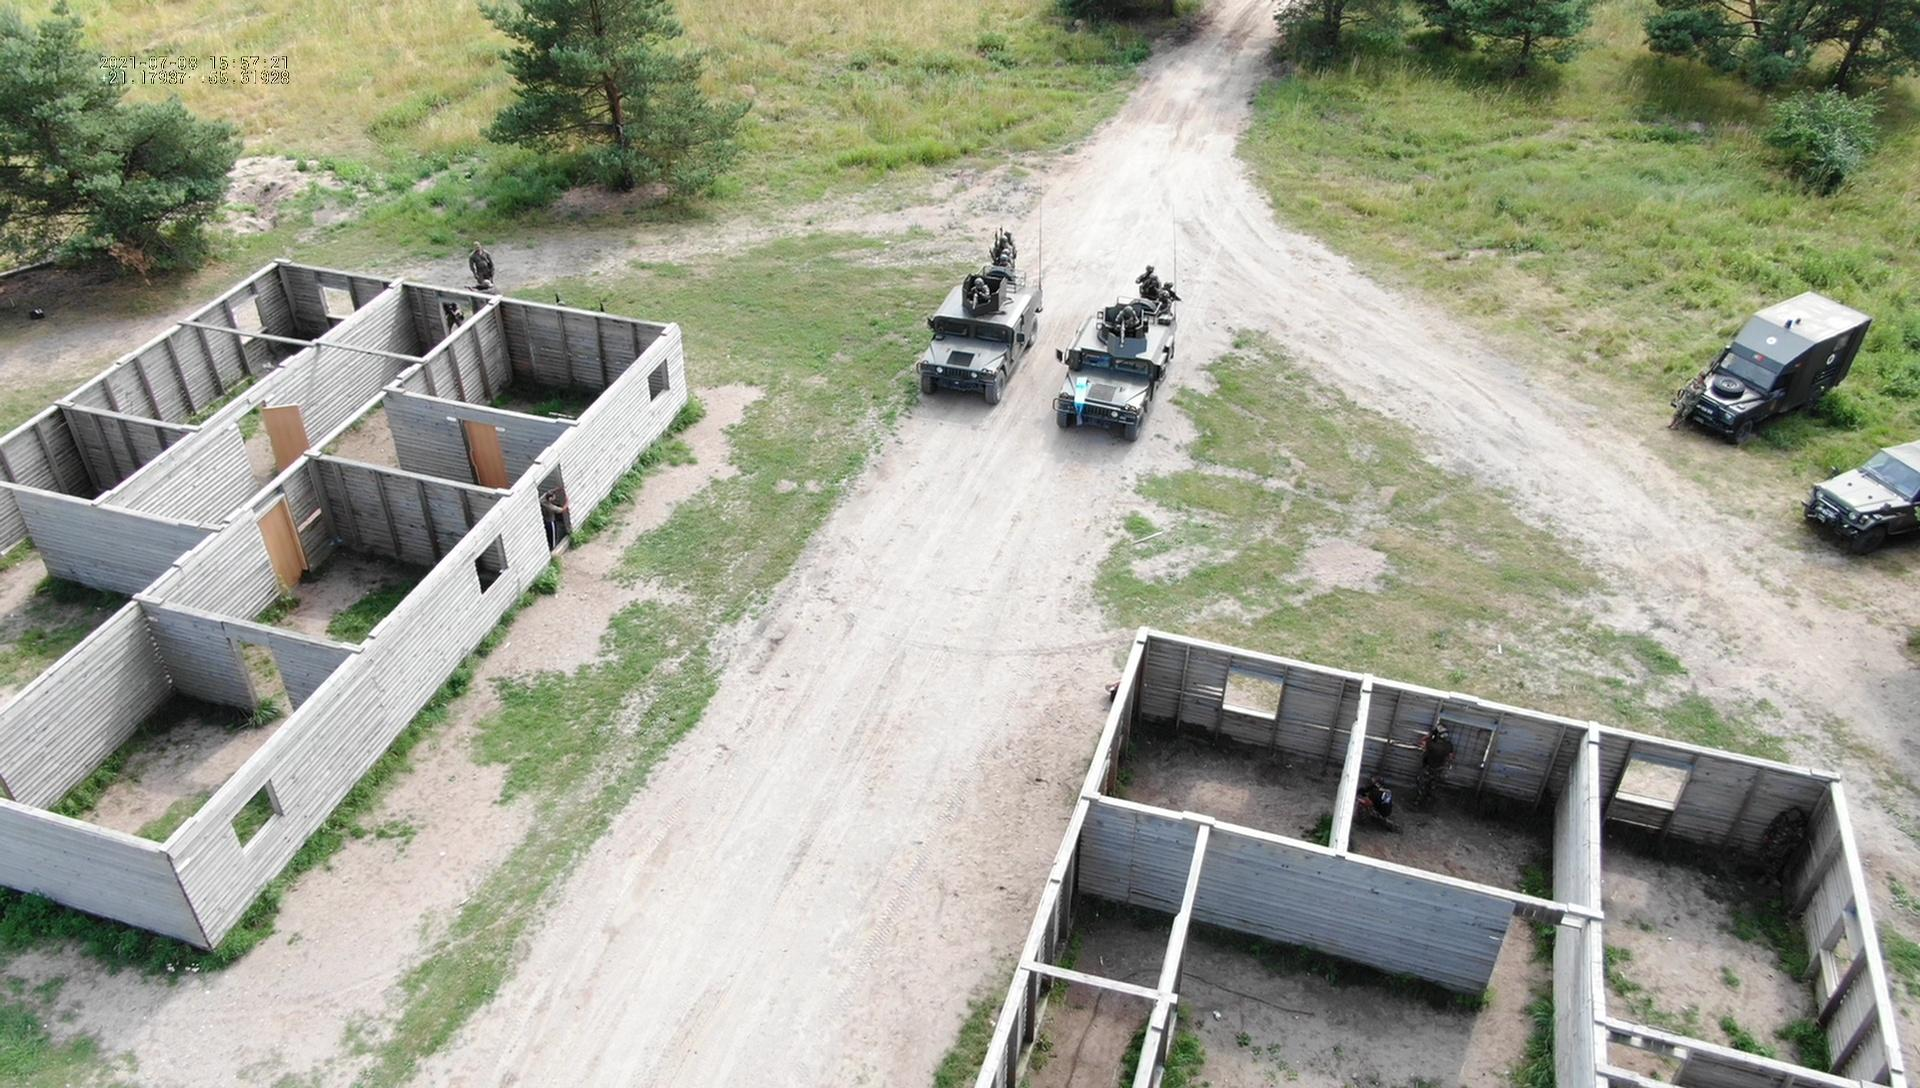Soldier: (1739, 819, 1805, 910), (1408, 727, 1461, 830), (1671, 371, 1706, 444), (1370, 764, 1400, 844), (464, 241, 502, 299), (1112, 307, 1151, 343), (1138, 262, 1167, 309), (986, 235, 1021, 269), (975, 277, 1004, 315), (994, 227, 1021, 262)
